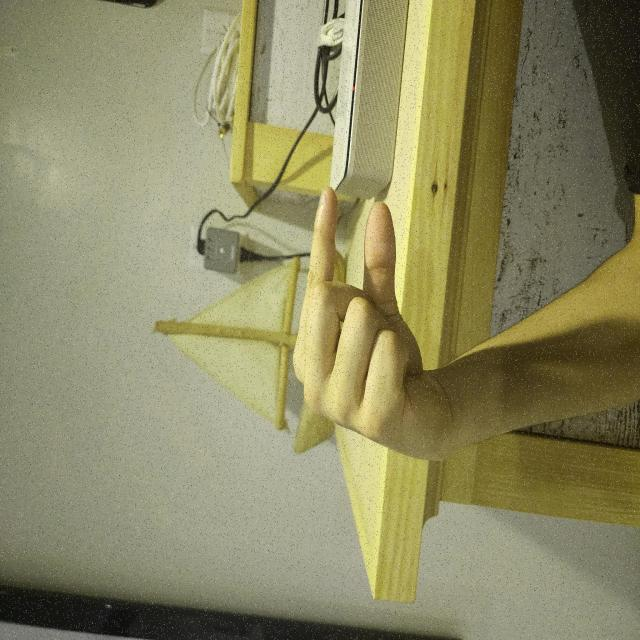Q: (134, 387, 343, 611)
